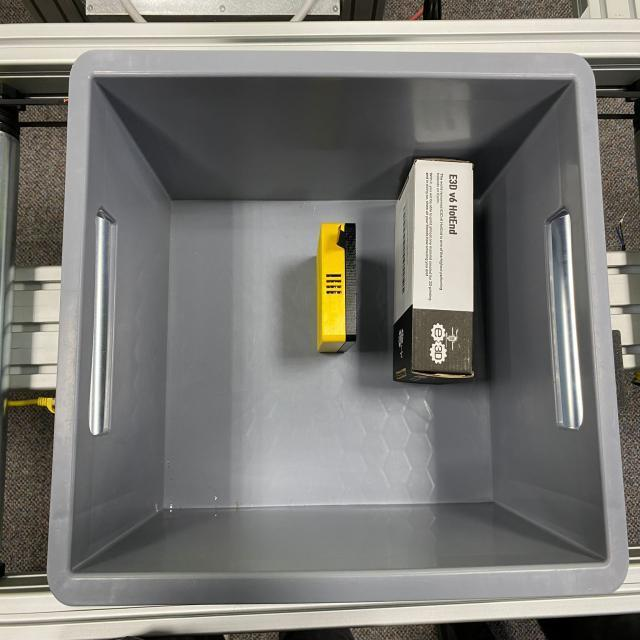box: (390, 155, 478, 381), (318, 221, 358, 351)
